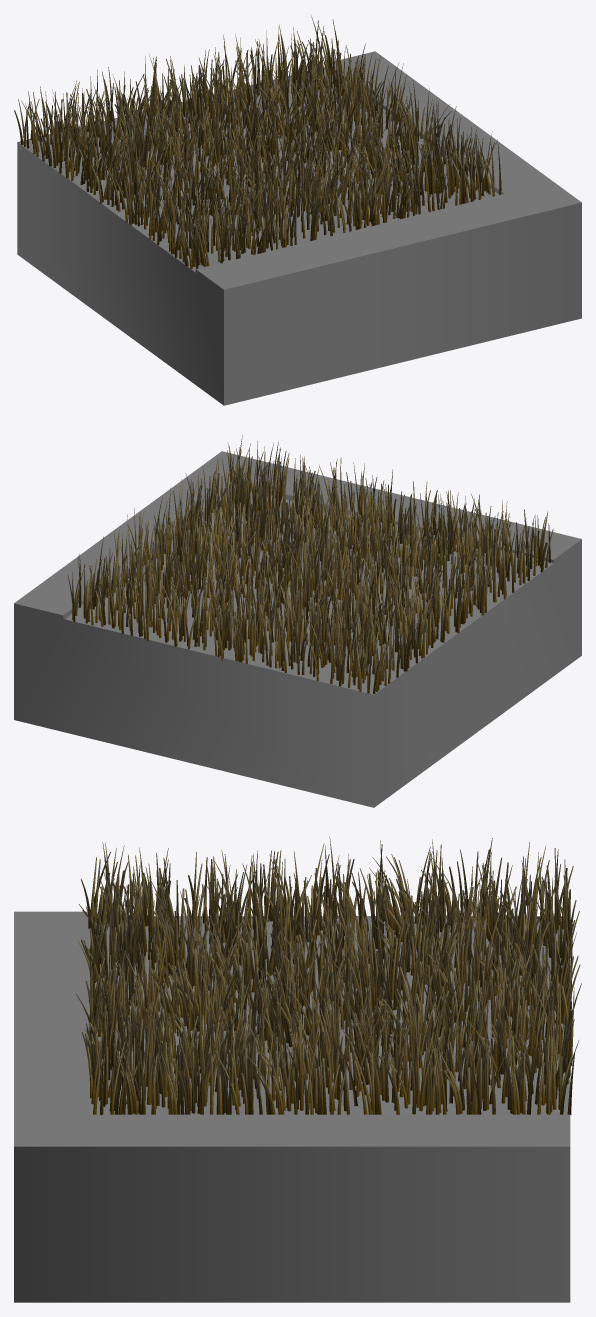
The model's file is cespedCorner.fbx.
The picture shows the model from 3 angles, top to bottom: view 1: azimuth 30°, elevation 25°; view 2: azimuth 150°, elevation 25°; view 3: azimuth 270°, elevation 25°; orthographic projection. The views are drawn at different scales.
Visible parts, largest first — view 1: Line039, Object002, cespedCorner; view 2: Line039, Object002, cespedCorner; view 3: Line039, Object002, cespedCorner.
Boxes of the visible parts, x1,y1,x2,y2 form: Line039: (17,51,581,405); Object002: (14,15,501,268); cespedCorner: (19,69,499,271); Line039: (14,451,581,807); Object002: (67,435,553,693); cespedCorner: (65,490,552,694); Line039: (14,911,570,1302); Object002: (75,836,581,1114); cespedCorner: (90,915,570,1114).
Size of the model in its own units: 104 by 45.99 by 102.
